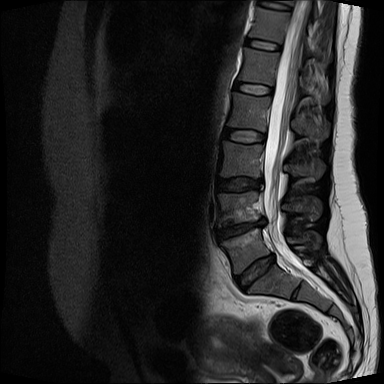Degenerative Disc Disease (DDD): (206, 212, 273, 244)
Lumbar Disc Bulge (LDB): (227, 249, 284, 300), (208, 210, 270, 242), (210, 170, 268, 197)
Normal IVD: (217, 121, 270, 147), (227, 76, 277, 99), (240, 35, 285, 54)
Spinal Stenosis (SS): (263, 246, 280, 269), (251, 172, 267, 194), (253, 211, 269, 231)
